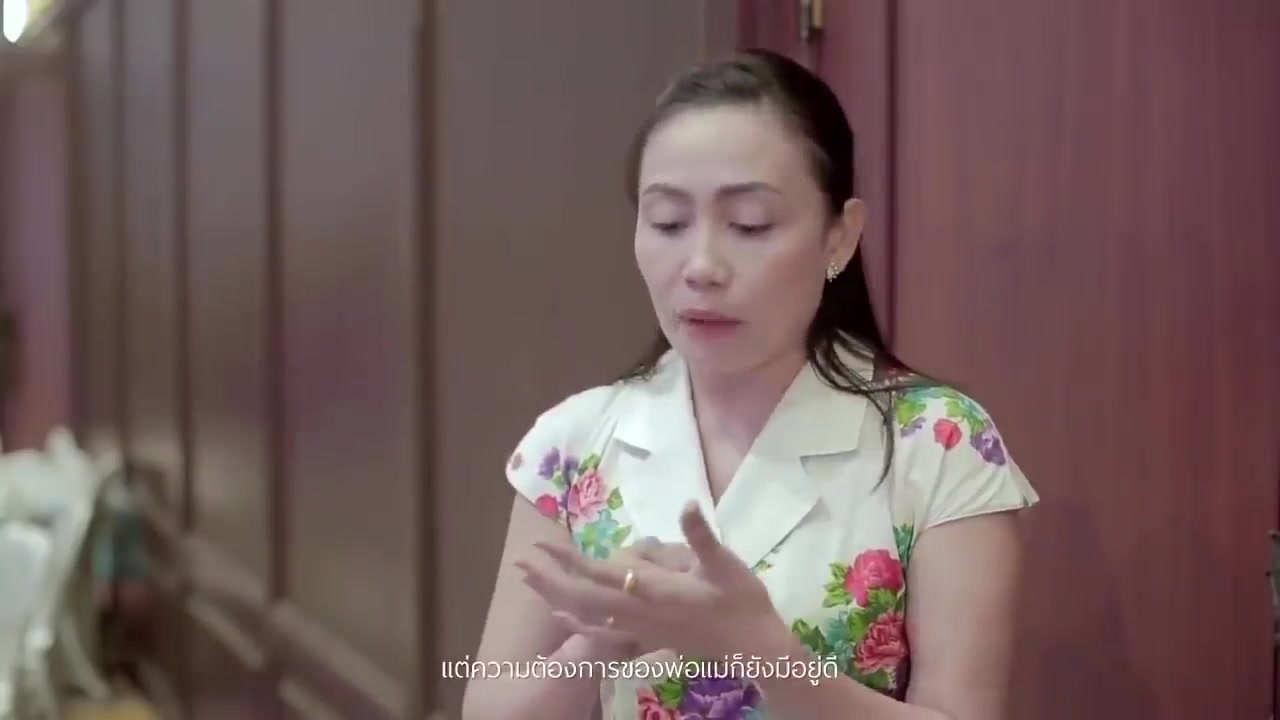text-label: (433, 647, 843, 686)
